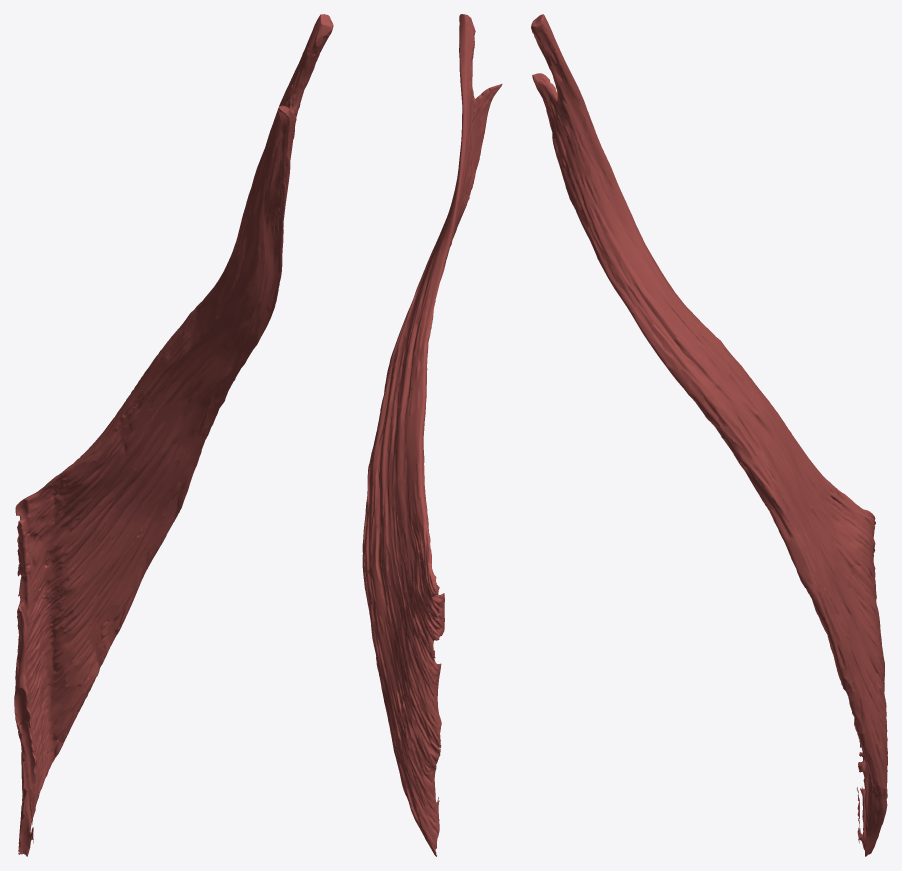
File: FMA22727.glb
The picture shows the model from 3 angles, left to right: view 1: azimuth 30°, elevation 25°; view 2: azimuth 150°, elevation 25°; view 3: azimuth 270°, elevation 25°; orthographic projection. The views are drawn at different scales.
Visible parts, largest first — view 1: FMA22727; view 2: FMA22727; view 3: FMA22727.
Part boxes in pixels (box(x1,y1,x2,y2)): FMA22727: box(14, 14, 333, 856); FMA22727: box(362, 14, 502, 856); FMA22727: box(531, 14, 887, 856).
Size of the model in its own units: 0.0423 by 0.2496 by 0.0894.
